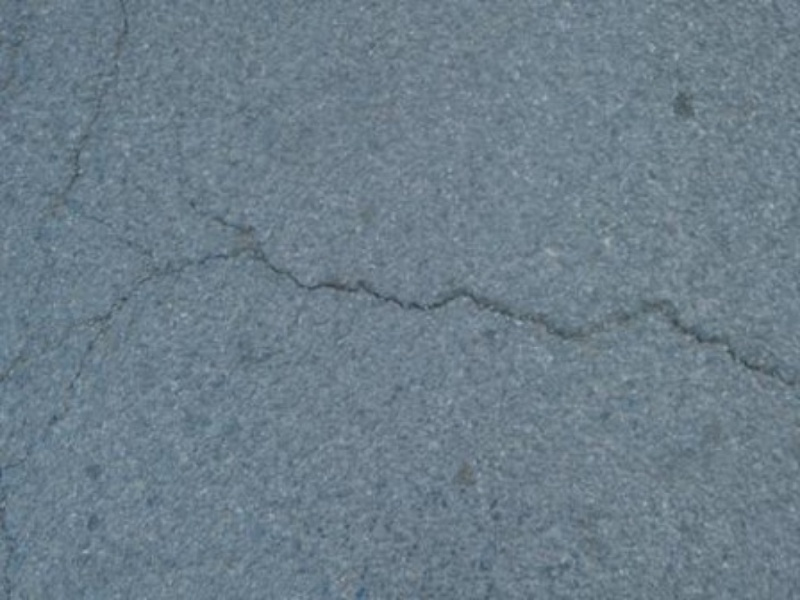crack: (48, 162, 794, 421), (31, 11, 148, 233)
